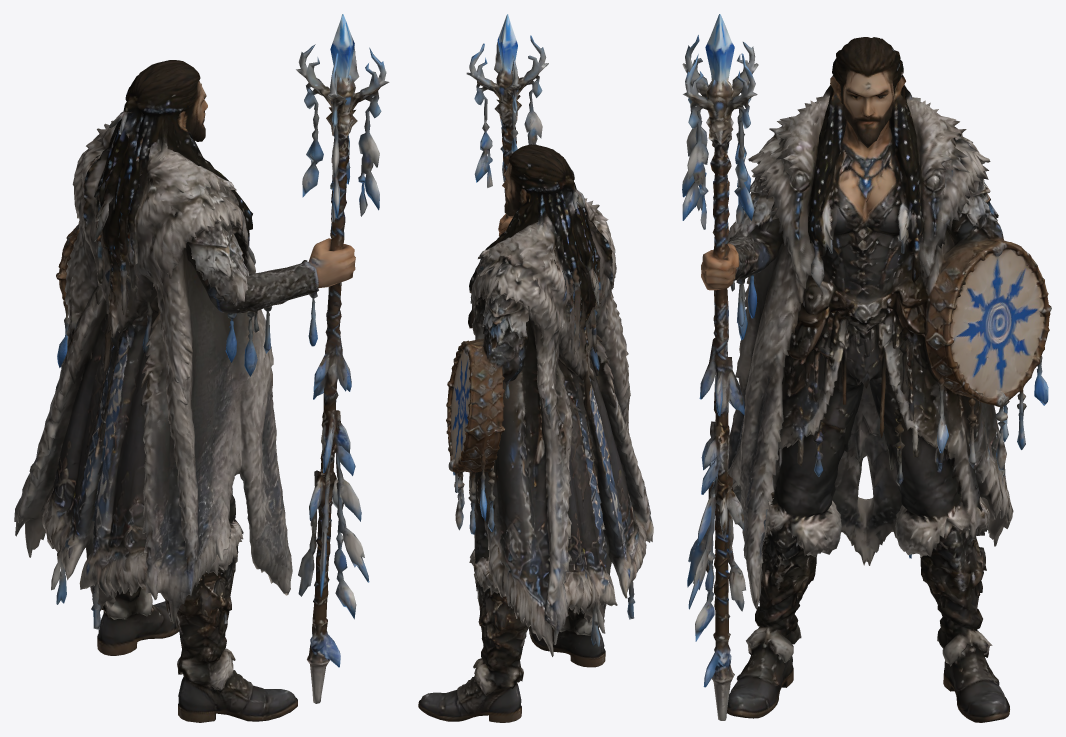
The model's file is drumcalleralt-GreyjawPelt-tripo.glb.
The picture shows the model from 3 angles, left to right: view 1: azimuth 30°, elevation 25°; view 2: azimuth 150°, elevation 25°; view 3: azimuth 270°, elevation 25°; orthographic projection. The views are drawn at different scales.
Visible parts, largest first — view 1: tripo_node_bdf5700c-eee7-446f-b6b6-b94d385a286d; view 2: tripo_node_bdf5700c-eee7-446f-b6b6-b94d385a286d; view 3: tripo_node_bdf5700c-eee7-446f-b6b6-b94d385a286d.
Boxes of the visible parts, x1,y1,x2,y2 form: tripo_node_bdf5700c-eee7-446f-b6b6-b94d385a286d: (14,14,389,722); tripo_node_bdf5700c-eee7-446f-b6b6-b94d385a286d: (418,14,653,722); tripo_node_bdf5700c-eee7-446f-b6b6-b94d385a286d: (682,14,1051,722).
Bounding box in the file's own units: 0.3495 × 1 × 0.4594.
Materials: 1 (1 with a texture image).
